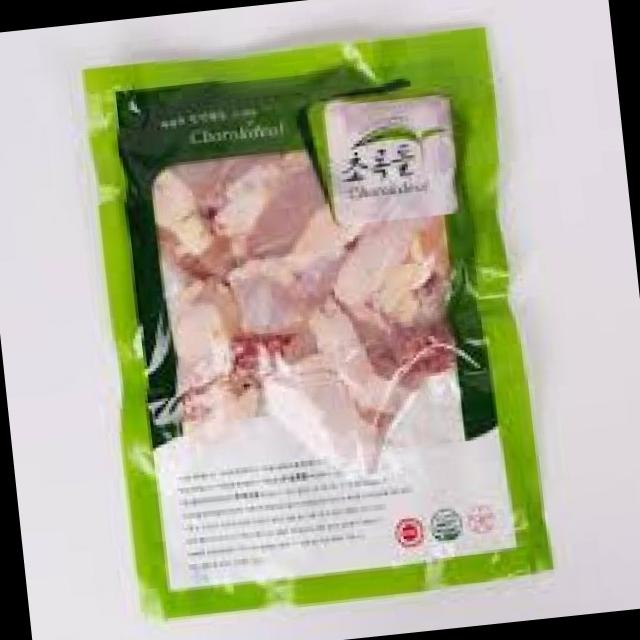chicken: (80, 21, 561, 628)
